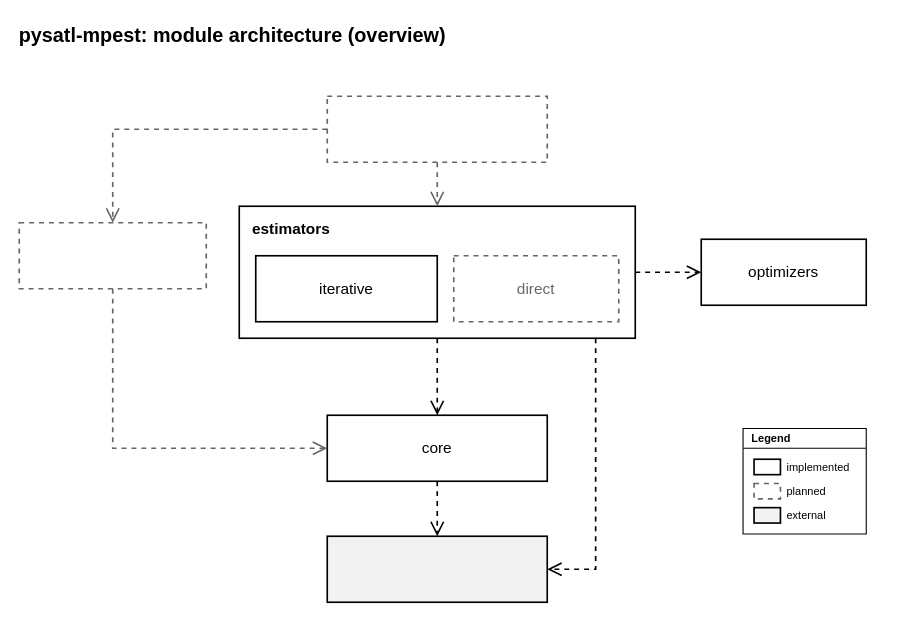
This 897x622 diagram has some shape labels left out. Each missing label, with the box of its shape:
initializers: (18, 221, 207, 289)
pysatl-core: (326, 535, 548, 603)
structure_selection: (326, 95, 548, 163)
